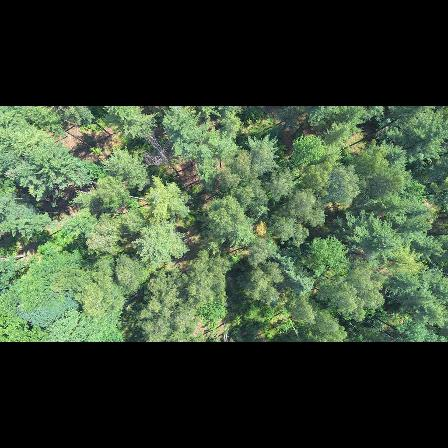Dead: (137, 130, 177, 171)
